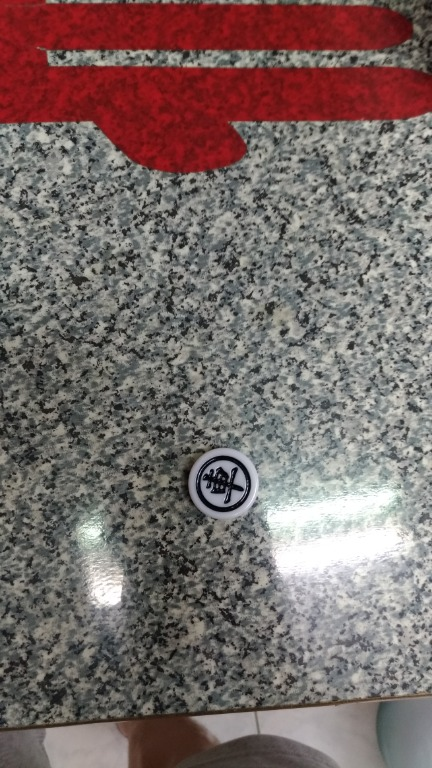b-king: (179, 438, 291, 534)
